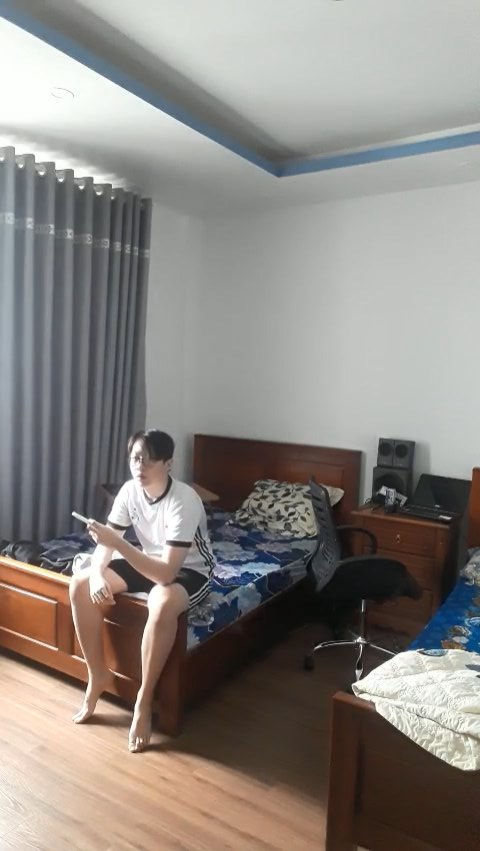cigarette: (70, 512, 90, 524)
person: (65, 420, 219, 764)
